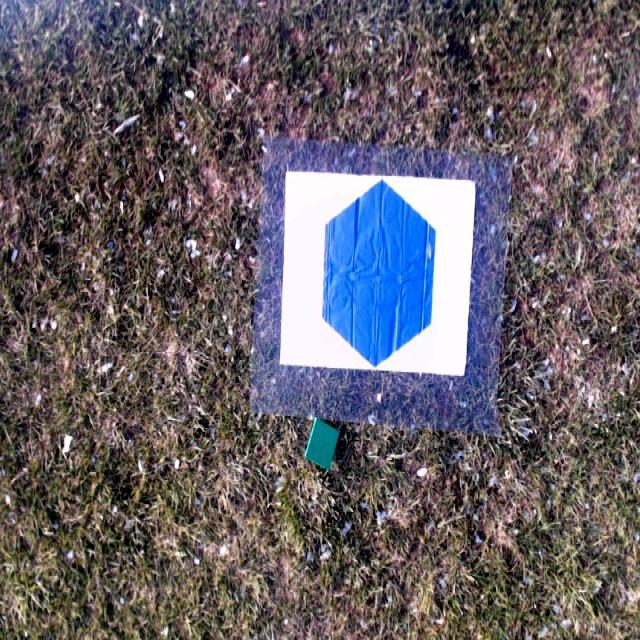blue_hexagon: (322, 174, 435, 365)
